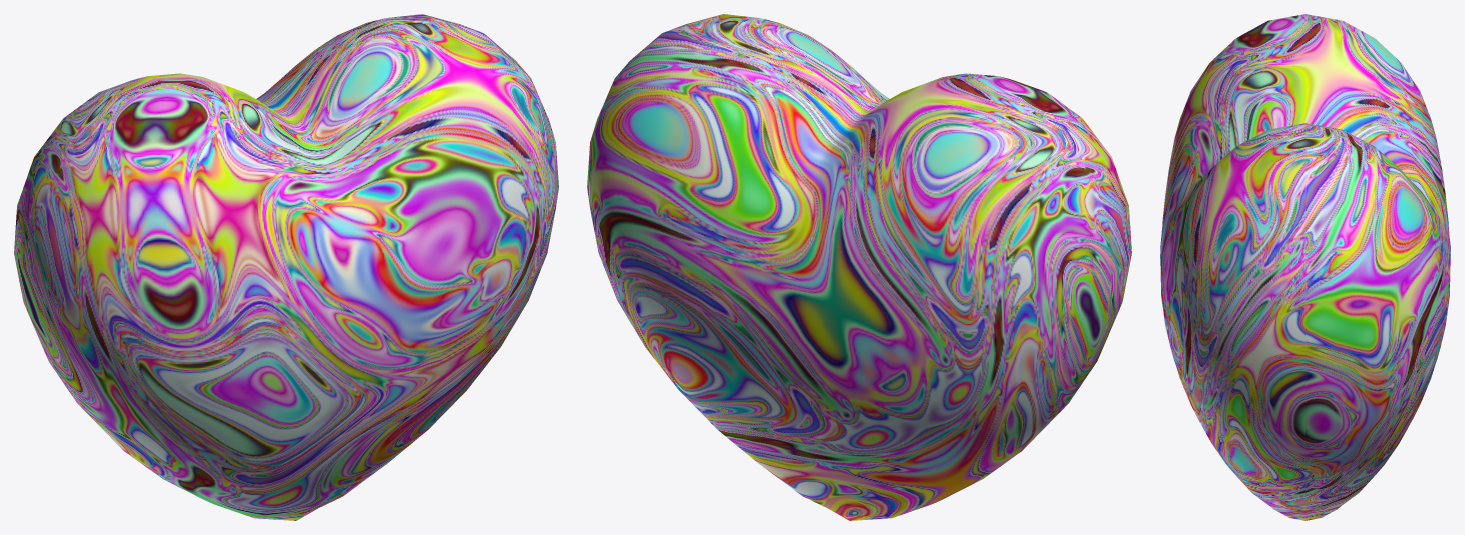
The model's file is heart_bubble.fbx.
3 renders of one model, left to right at view 1: azimuth 30°, elevation 25°; view 2: azimuth 150°, elevation 25°; view 3: azimuth 270°, elevation 25°, orthographic. The views are drawn at different scales.
Visible parts, largest first — view 1: heart_bubble; view 2: heart_bubble; view 3: heart_bubble.
Part boxes in pixels (x1,y1,x2,y2): heart_bubble: (14,14,558,520); heart_bubble: (587,14,1131,520); heart_bubble: (1160,14,1450,520).
Size of the model in its own units: 165 by 145 by 87.87.
1 material, 1 textured.
